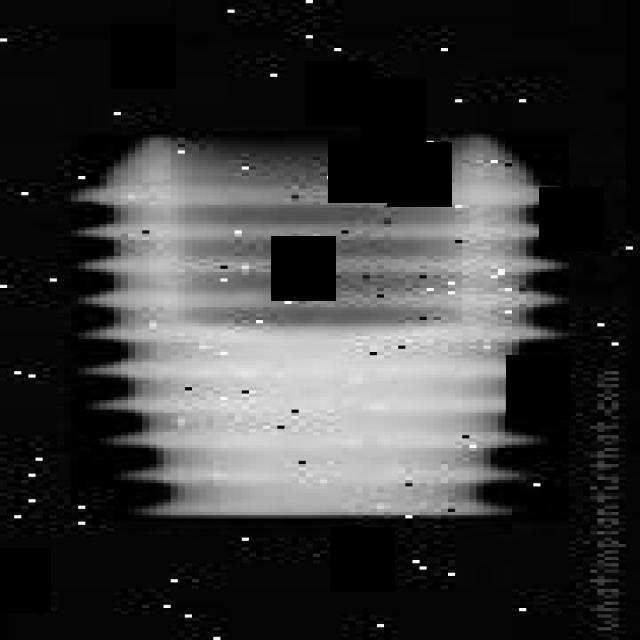OsseoLink Implant: (71, 134, 569, 522)
